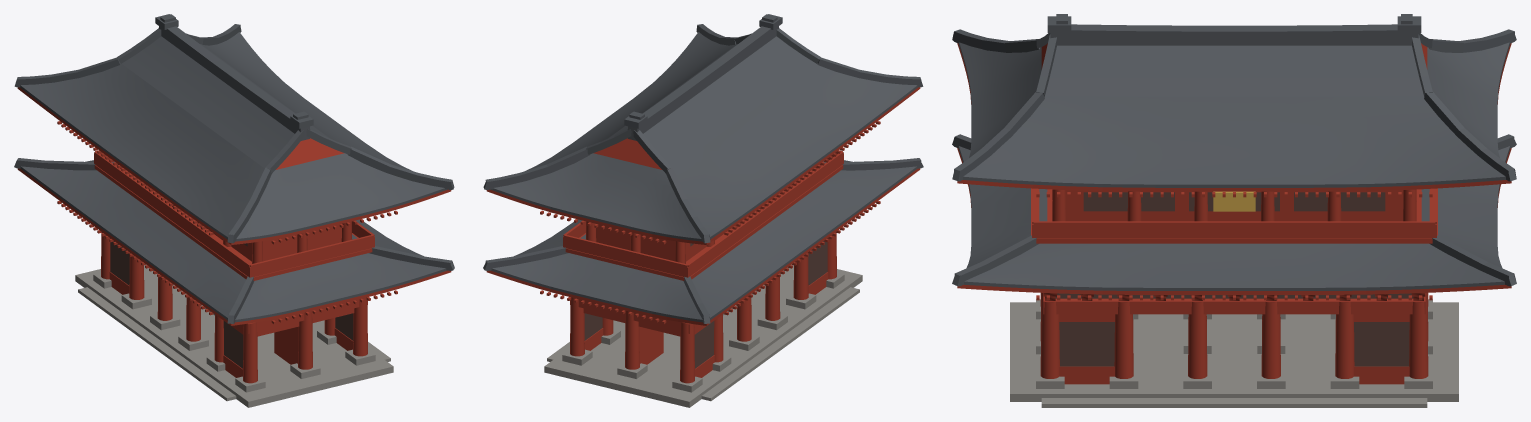
Rendered from tokyo-zojoji-sanmon.detail.glb.
3 views of the same model, side by side, from view 1: azimuth 30°, elevation 25°; view 2: azimuth 150°, elevation 25°; view 3: azimuth 270°, elevation 25° (orthographic). The views are drawn at different scales.
Visible parts, largest first — view 1: Zōjō-ji Sangedatsumon; view 2: Zōjō-ji Sangedatsumon; view 3: Zōjō-ji Sangedatsumon.
Part boxes in pixels (x1,y1,x2,y2): Zōjō-ji Sangedatsumon: [14, 14, 454, 407]; Zōjō-ji Sangedatsumon: [483, 14, 923, 407]; Zōjō-ji Sangedatsumon: [952, 14, 1516, 407].
Size of the model in its own units: 19.41 by 21.3 by 32.21.
